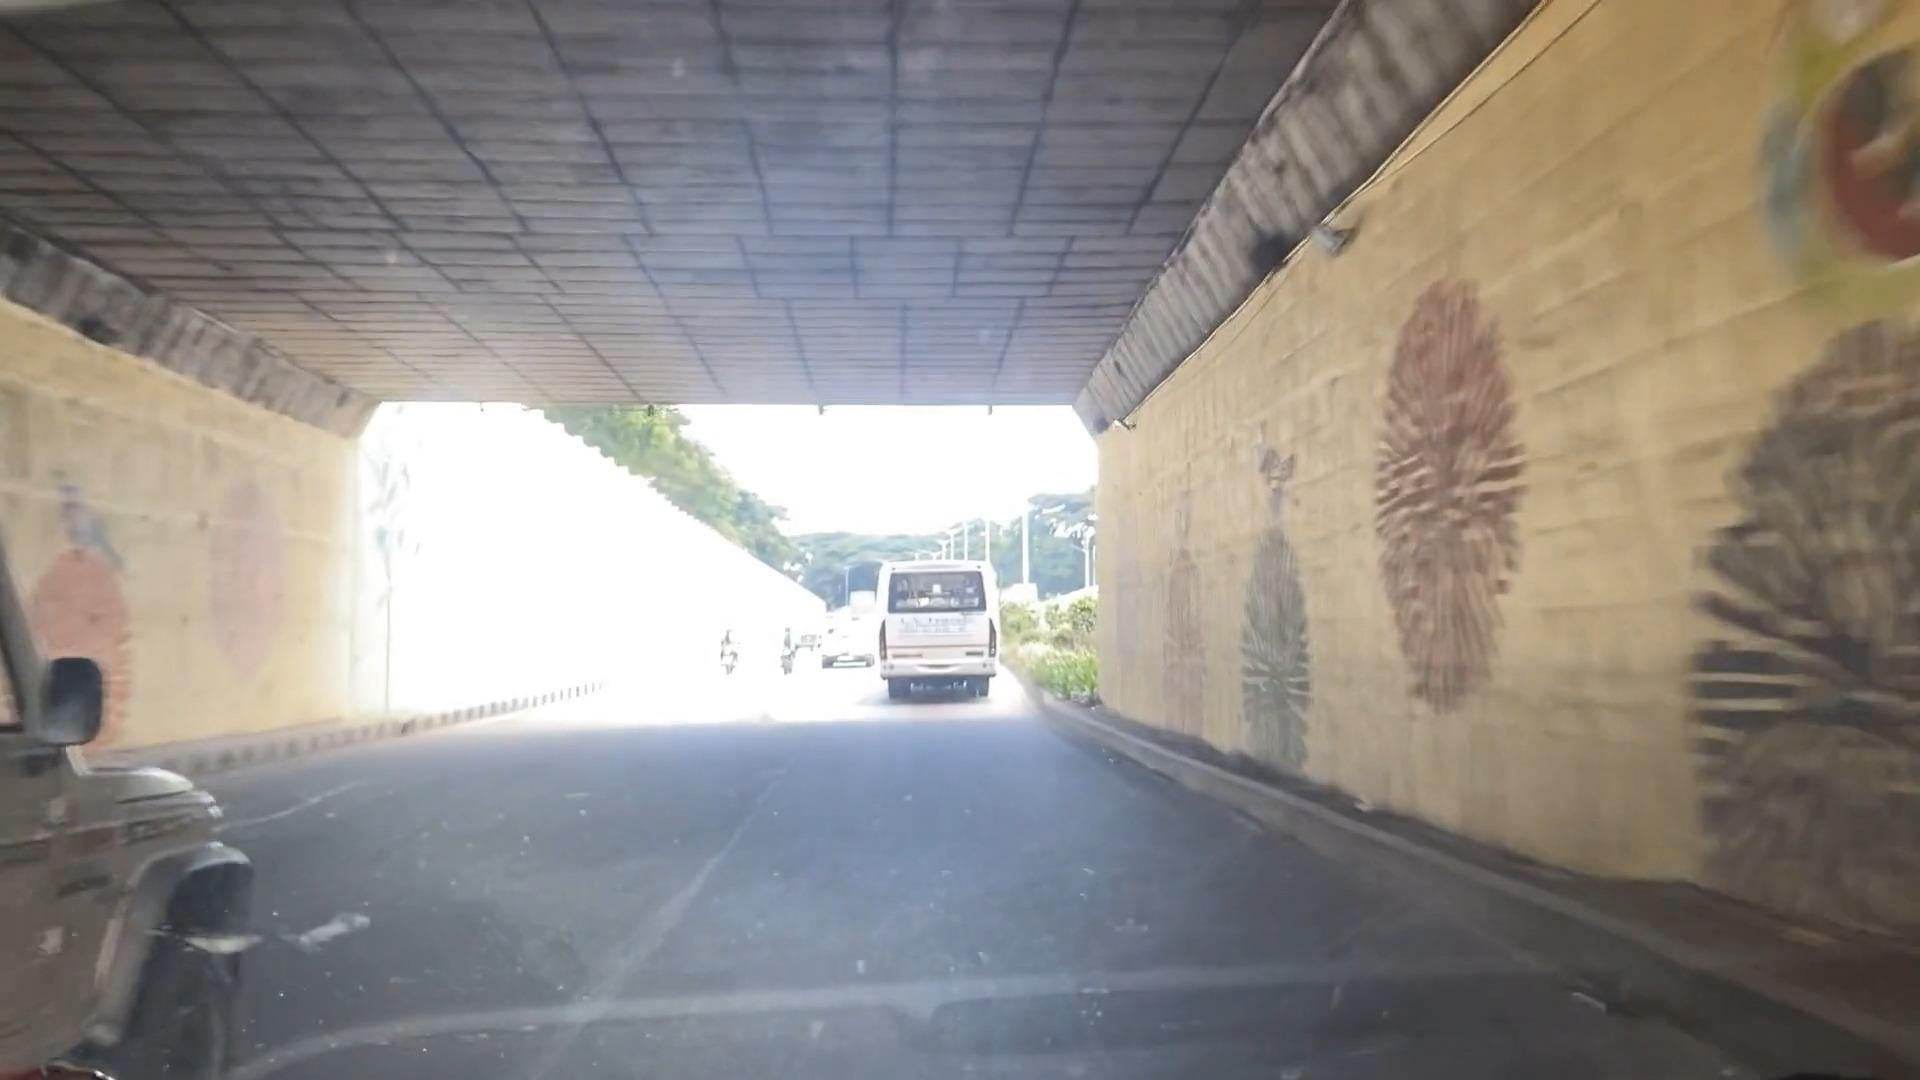HMV: (871, 571, 983, 701)
RoadDamages: (657, 759, 800, 954)
